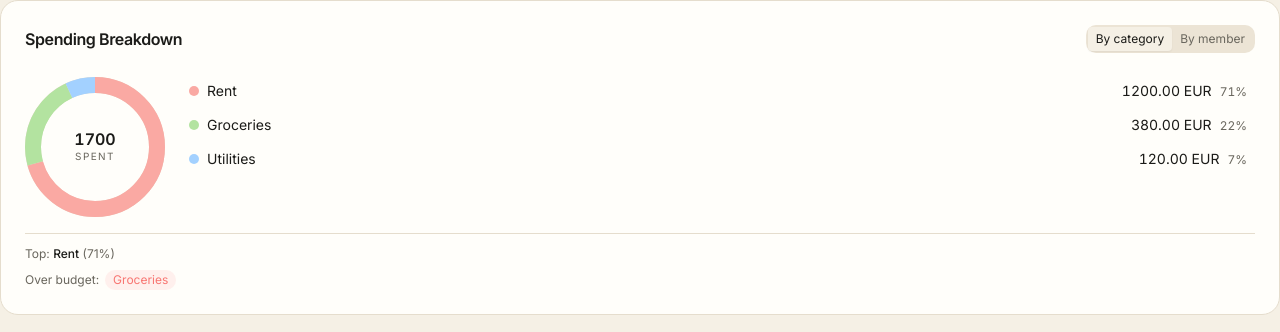
Test: <SpendingBreakdownCard /> › byMember toggle › swaps to member donut & legend when "By member" is clicked
The width and height of the screenshot is (1280, 332).
Click the button with test id "breakdown-mode-member".
click(1213, 39)  # box [1172,27,1253,51]
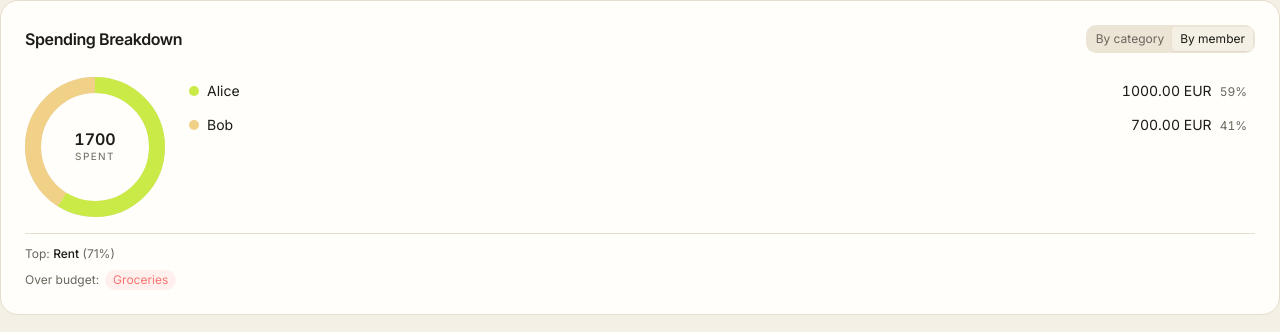
Result: the button with test id "legend-row-member-m1" shows "Alice" at [181,77,1255,105]
Result: the button with test id "legend-row-member-m2" shows "Bob" at [181,111,1255,139]
Result: the button with test id "legend-row-rent" is gone
